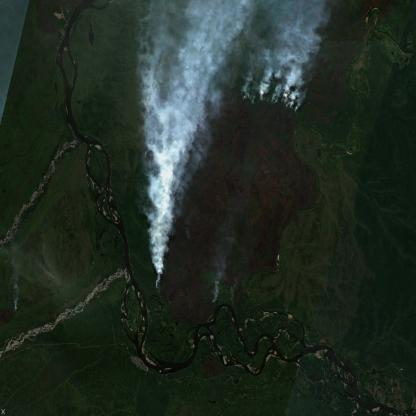fire: (138, 87, 178, 301), (235, 80, 300, 113)
